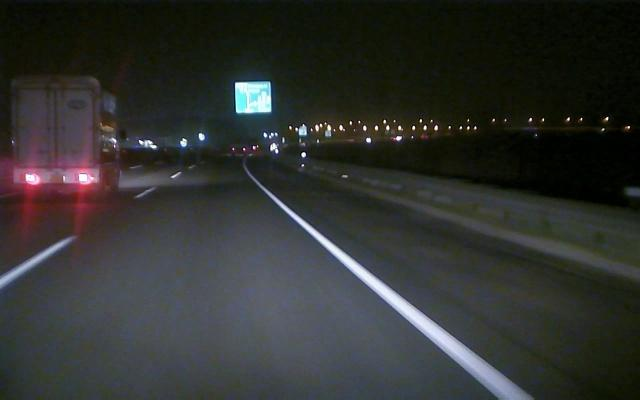lane: (261, 189, 533, 397), (0, 185, 159, 290)
